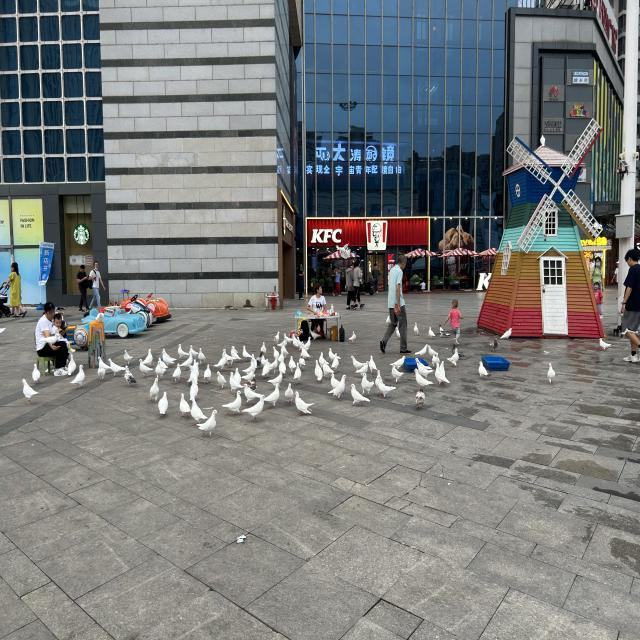bird: (200, 410, 218, 438), (292, 393, 316, 413), (350, 384, 370, 408), (246, 396, 266, 420), (377, 377, 395, 402), (21, 379, 38, 405), (190, 398, 207, 423), (225, 392, 242, 417), (542, 360, 558, 386), (108, 356, 122, 382), (266, 385, 284, 405), (413, 368, 433, 386), (178, 390, 190, 419), (157, 391, 170, 416), (146, 380, 160, 402), (336, 374, 347, 402), (242, 383, 260, 400), (74, 365, 86, 390), (498, 326, 516, 342), (484, 335, 500, 353), (30, 362, 43, 384), (138, 358, 152, 378), (122, 366, 137, 384), (415, 386, 427, 408), (270, 368, 286, 384), (390, 352, 406, 368), (446, 348, 459, 367), (293, 362, 304, 384), (284, 382, 294, 406), (312, 360, 322, 384), (596, 338, 612, 353), (392, 365, 405, 383), (67, 354, 78, 375), (203, 362, 213, 385), (478, 362, 490, 380), (352, 361, 370, 373), (228, 372, 238, 393), (142, 347, 154, 364), (172, 364, 182, 384), (368, 352, 378, 372), (215, 370, 226, 388), (122, 348, 134, 364), (434, 362, 442, 386), (328, 347, 342, 360), (362, 374, 372, 392), (346, 329, 358, 344), (241, 342, 251, 360), (183, 353, 194, 369), (438, 324, 449, 340), (177, 341, 186, 359), (349, 354, 362, 366), (428, 344, 440, 357), (416, 344, 429, 356), (95, 366, 106, 380), (288, 356, 297, 373), (245, 366, 255, 381), (186, 340, 196, 354), (412, 318, 419, 338), (270, 344, 280, 358), (290, 332, 298, 349), (330, 372, 339, 387), (374, 369, 384, 382), (414, 356, 424, 369), (198, 346, 206, 362), (272, 328, 280, 344), (258, 340, 270, 350), (97, 354, 108, 364), (428, 326, 436, 339), (306, 333, 312, 348), (247, 358, 254, 369)
